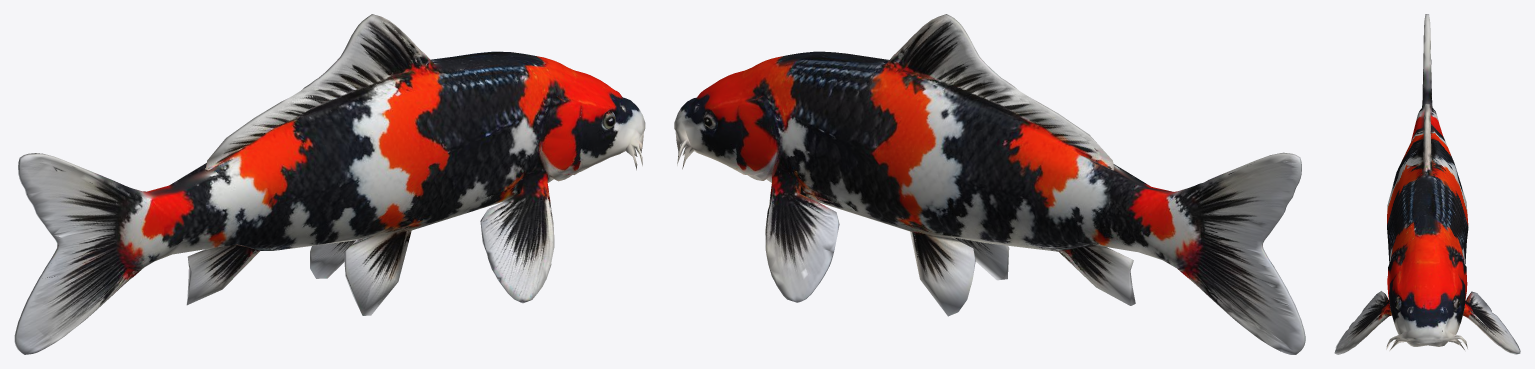
File: showa.glb
3 views of the same model, side by side, from view 1: azimuth 30°, elevation 25°; view 2: azimuth 150°, elevation 25°; view 3: azimuth 270°, elevation 25° (orthographic). The views are drawn at different scales.
Visible parts, largest first — view 1: showa; view 2: showa; view 3: showa.
Boxes of the visible parts, bbox=[...] form: showa: bbox=[14, 14, 645, 354]; showa: bbox=[674, 14, 1305, 354]; showa: bbox=[1334, 14, 1520, 354].
Size of the model in its own units: 1 by 0.4222 by 0.3259.
Materials: 1 (1 with a texture image).
